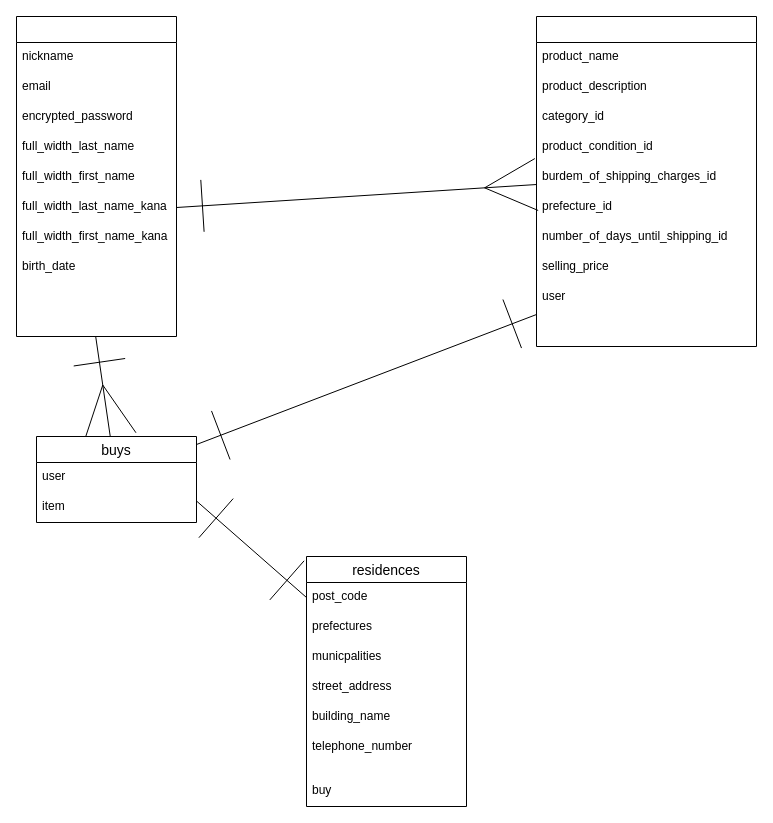
Some shapes in this 773 by 823 pixel diagram are drawn without their labels. The box of each missing label's shape, as (x1, y1, x2, y2) in pixels:
items: (536, 16, 756, 346)
users: (16, 16, 176, 336)
